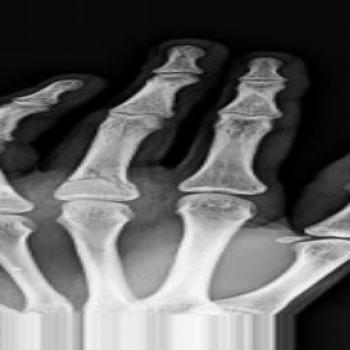Fracture: (65, 161, 135, 192)
